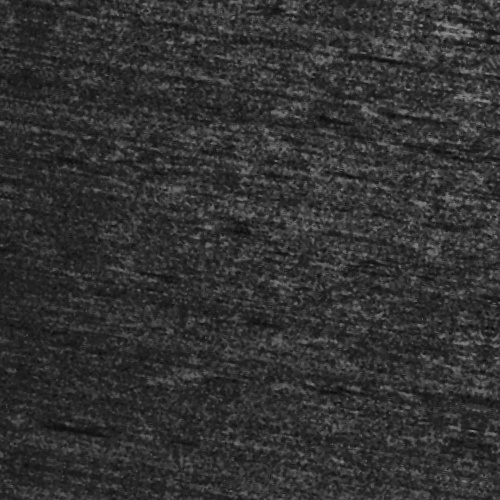object: (402, 0, 455, 4)
shadow: (429, 0, 500, 4)
